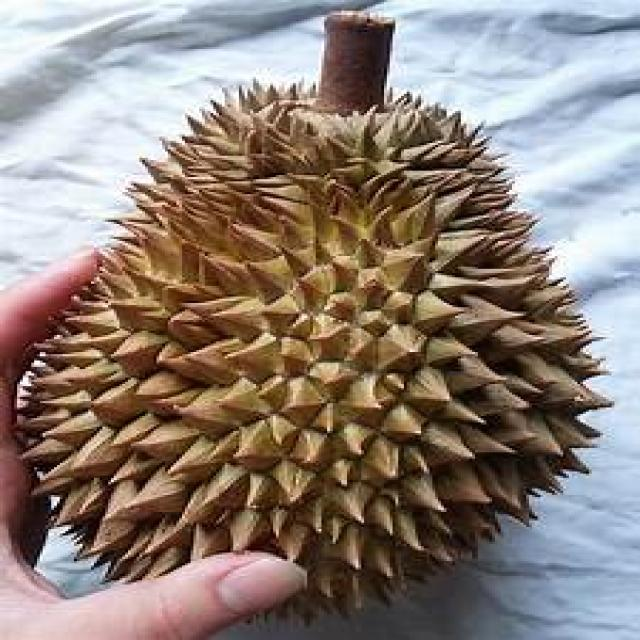mature: (18, 84, 608, 613)
